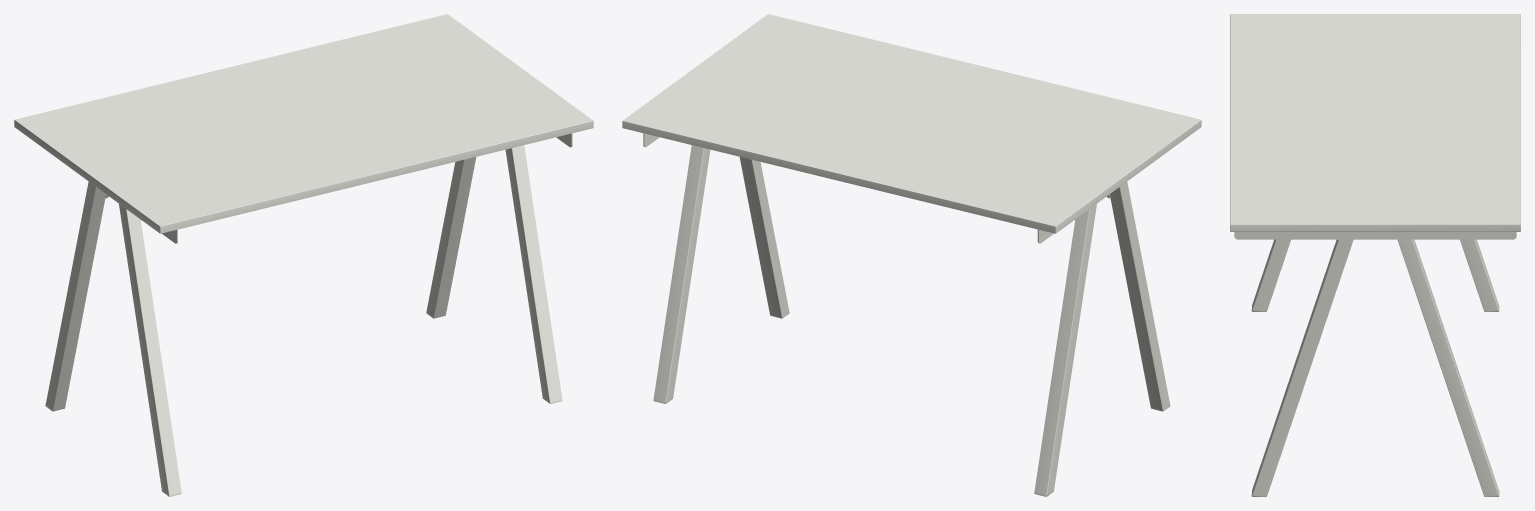
File: 32 - TROTTEN Desk - white 120x70 cm.glb
3 renders of one model, left to right at view 1: azimuth 30°, elevation 25°; view 2: azimuth 150°, elevation 25°; view 3: azimuth 270°, elevation 25°, orthographic.
Bounding box in the file's own units: 1.2 × 0.75 × 0.7.
Materials: 1 (1 with a texture image).
